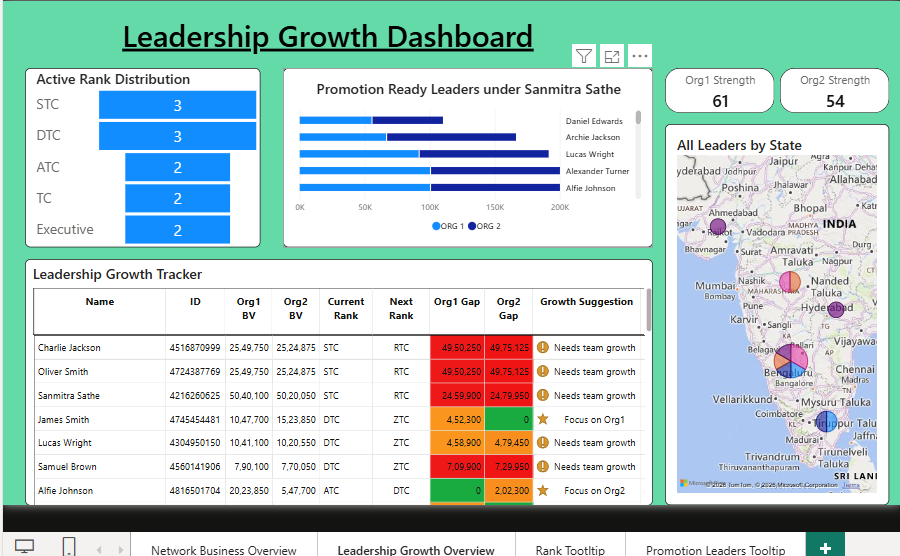

This screenshot's page, from the dashboard's own definition file:
{"tool":"powerbi","page":{"name":"Leadership Growth Overview","canvas":[1280,720],"ordinal":1},"visuals":[{"type":"funnel","title":"Active Rank Distribution","fields":{"Category":["RankMaster.Rank_SF"],"Y":["RankMaster.Users Per Rank"]},"box":[32,96,336,256],"z":0},{"type":"tableEx","title":"Leadership Growth Tracker","fields":{"Values":["Users.Name","Users.User ID","Transactions.Org1 BV","Transactions.Org2 BV","Rank_Table.Current_Rank","Rank_Table.Next Rank Short","Rank_Table.Org1 Gap","Rank_Table.Org2 Gap","Rank_Table.Growth Suggestion","Rank_Table.Current Rank Order LGT"]},"box":[32,368,896,352],"z":1000},{"type":"actionButton","title":"Leaders Overview","box":[16,0,896,96],"z":2000},{"type":"map","fields":{"Category":["Users.State"],"Series":["Rank_Table.Rank_SF"],"Size":["Rank_Table.Users Per Rank"]},"box":[944,176,320,544],"z":3000},{"type":"cardVisual","fields":{"Data":["Users.Org1 Count","Users.Org2 Count"]},"box":[944,96,320,64],"z":4000},{"type":"barChart","fields":{"Category":["Upline_lookup.Name"],"Series":["Upline_lookup.Org Display"],"Y":["Upline_lookup.Closest Gap lookup"]},"box":[400,96,528,256],"z":5000}]}

Visuals, with their boxes on the page's 1280x720 design canvas (x1, y1, x2, y2). These are canvas units, not pixel positions in the 900x556 screenshot, which may show the page scaled, cropped or inside an application window:
"Active Rank Distribution" funnel: <region>32, 96, 368, 352</region>
"Leadership Growth Tracker" tableEx: <region>32, 368, 928, 720</region>
"Leaders Overview" actionButton: <region>16, 0, 912, 96</region>
map - Users.State x Rank_Table.Rank_SF: <region>944, 176, 1264, 720</region>
cardVisual - Users.Org1 Count x Users.Org2 Count: <region>944, 96, 1264, 160</region>
barChart - Upline_lookup.Name x Upline_lookup.Org Display: <region>400, 96, 928, 352</region>
